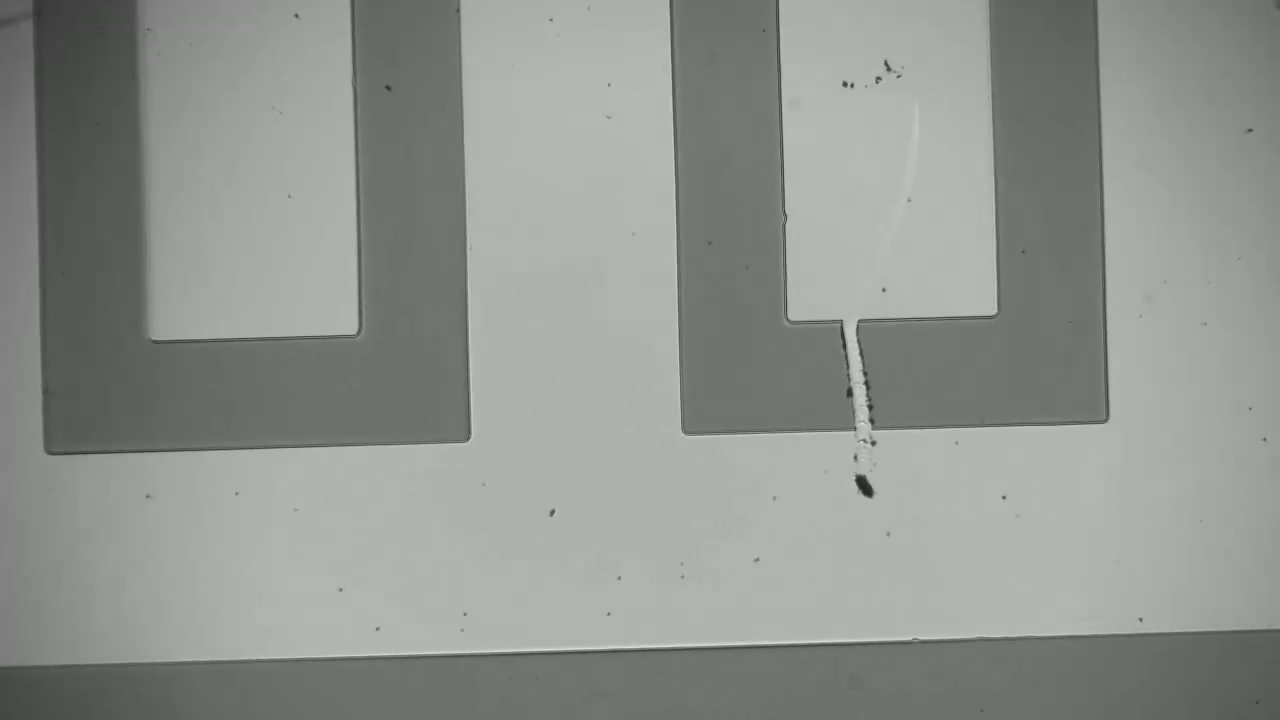Short_circuit: (824, 301, 896, 464)
